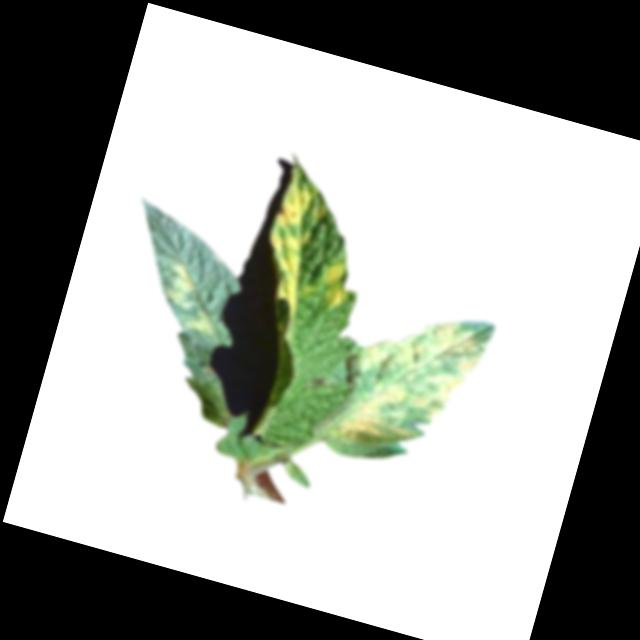Leaf_Mold: (332, 297, 491, 470), (247, 161, 337, 323), (315, 258, 356, 317), (160, 258, 204, 312), (183, 309, 218, 337)
